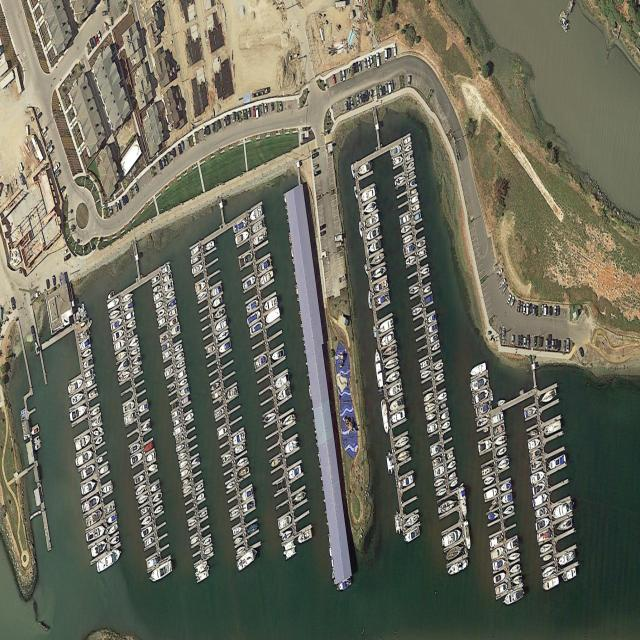large-vehicle: (375, 52, 380, 68)
ship: (96, 546, 122, 576), (150, 558, 173, 584), (237, 546, 259, 573), (447, 557, 469, 578), (502, 587, 524, 608), (552, 499, 573, 521), (374, 347, 384, 389), (85, 524, 106, 544), (443, 527, 462, 549), (75, 448, 94, 469), (82, 494, 101, 514), (69, 403, 88, 423), (380, 398, 390, 435), (446, 543, 465, 562), (439, 496, 457, 516), (85, 508, 103, 528), (543, 419, 561, 438), (195, 560, 209, 584), (283, 538, 297, 562), (470, 375, 488, 393), (548, 453, 566, 471), (558, 549, 576, 567), (91, 539, 108, 558), (459, 485, 468, 520), (543, 575, 560, 593), (404, 526, 420, 545), (274, 372, 290, 391), (336, 575, 352, 594), (80, 462, 96, 481), (75, 433, 91, 452), (68, 376, 84, 395), (556, 517, 573, 534), (252, 229, 268, 247), (394, 434, 410, 452), (374, 291, 390, 309), (373, 278, 389, 296), (473, 387, 489, 405), (532, 491, 548, 509), (259, 269, 274, 288), (463, 521, 472, 552), (238, 251, 254, 268), (382, 343, 398, 360), (469, 362, 486, 378), (233, 217, 248, 235), (249, 205, 264, 223), (235, 229, 250, 247), (379, 317, 394, 335), (387, 381, 402, 399), (404, 512, 419, 530), (278, 513, 293, 531), (265, 307, 280, 325), (276, 385, 291, 403), (81, 478, 96, 496), (369, 251, 385, 267), (530, 469, 546, 485), (242, 274, 257, 291), (389, 396, 404, 413), (263, 296, 278, 313), (357, 160, 372, 177), (361, 186, 376, 203), (537, 527, 552, 544), (381, 330, 395, 348), (394, 509, 403, 537), (254, 353, 268, 371), (284, 438, 298, 456), (385, 370, 400, 386), (372, 264, 387, 280), (475, 402, 490, 418), (540, 389, 555, 405), (489, 533, 504, 549), (562, 567, 577, 583), (536, 516, 551, 532), (257, 257, 271, 274), (242, 497, 256, 514), (240, 486, 254, 503), (247, 309, 261, 326), (391, 408, 405, 425), (288, 464, 302, 481), (363, 200, 377, 217), (366, 225, 380, 242), (71, 390, 85, 407), (386, 450, 395, 476), (478, 438, 493, 453), (249, 320, 263, 336), (384, 356, 398, 372), (271, 348, 285, 364), (293, 488, 307, 504), (298, 529, 312, 545), (365, 213, 379, 229), (491, 545, 505, 561), (542, 563, 556, 579), (215, 317, 228, 334), (252, 218, 265, 235), (232, 430, 245, 447), (130, 451, 144, 466), (532, 481, 546, 496), (484, 486, 498, 501), (492, 557, 506, 572), (401, 474, 414, 490), (264, 410, 277, 426), (124, 409, 137, 425), (118, 368, 131, 384), (213, 306, 226, 321), (204, 238, 217, 253), (246, 298, 259, 313), (397, 449, 410, 464), (282, 414, 295, 429), (368, 239, 381, 254), (116, 358, 129, 373), (112, 328, 125, 343), (107, 296, 120, 311), (494, 433, 507, 448), (430, 442, 443, 457), (528, 436, 541, 451), (506, 537, 519, 552), (536, 505, 549, 520), (111, 316, 123, 332), (146, 555, 159, 569), (491, 411, 504, 425), (497, 457, 510, 471), (529, 447, 542, 461), (524, 405, 537, 419), (540, 541, 553, 555), (219, 340, 231, 355), (217, 328, 229, 343), (210, 283, 222, 298), (195, 279, 207, 294), (141, 524, 153, 539), (78, 327, 90, 342), (79, 337, 91, 352), (123, 400, 135, 415), (501, 491, 513, 506), (212, 294, 223, 310), (495, 582, 508, 595), (493, 571, 506, 584), (192, 262, 204, 276), (247, 522, 259, 536), (238, 465, 250, 479), (135, 483, 147, 497), (114, 338, 126, 352), (122, 291, 134, 305), (390, 144, 402, 158), (394, 174, 406, 188), (403, 242, 415, 256), (531, 458, 543, 472), (508, 550, 520, 564), (227, 386, 238, 401), (282, 528, 293, 543), (109, 307, 120, 322), (234, 442, 246, 455), (400, 223, 412, 236), (476, 416, 489, 428), (500, 481, 512, 494), (509, 563, 521, 576), (197, 289, 208, 303), (141, 514, 152, 528), (152, 491, 163, 505), (91, 415, 102, 429), (116, 348, 127, 362), (130, 441, 141, 455), (434, 476, 445, 490), (400, 212, 411, 226), (494, 423, 505, 437), (405, 253, 416, 267), (434, 465, 445, 479), (409, 284, 420, 298), (503, 504, 514, 518), (236, 456, 248, 468), (481, 465, 493, 477), (436, 486, 447, 499), (214, 407, 225, 420), (217, 425, 228, 438), (102, 483, 113, 496), (144, 535, 155, 548), (81, 347, 92, 360), (128, 336, 139, 349), (427, 422, 438, 435), (425, 401, 436, 414), (412, 305, 423, 318), (484, 474, 495, 487), (512, 574, 523, 587), (147, 461, 157, 475), (560, 15, 569, 30), (190, 254, 201, 266), (138, 493, 149, 505), (134, 473, 145, 485), (173, 425, 184, 437), (496, 446, 507, 458), (423, 391, 434, 403), (527, 428, 538, 440), (488, 510, 499, 522), (206, 343, 216, 356), (191, 244, 201, 257), (222, 452, 232, 465), (271, 456, 281, 469), (105, 502, 115, 515), (107, 513, 117, 526), (153, 503, 163, 516), (151, 481, 161, 494), (146, 451, 156, 464), (83, 357, 93, 370), (85, 376, 95, 389), (171, 324, 181, 337), (141, 421, 151, 434), (139, 401, 149, 414), (132, 354, 142, 367), (130, 345, 140, 358), (123, 300, 133, 313), (420, 358, 430, 371), (212, 389, 222, 401), (190, 534, 200, 546), (202, 536, 212, 548), (233, 525, 243, 537), (230, 507, 240, 519), (367, 290, 373, 310), (99, 464, 109, 476), (108, 524, 118, 536), (110, 535, 120, 547), (88, 387, 98, 399), (153, 291, 163, 303), (164, 281, 174, 293), (164, 367, 174, 379), (184, 411, 194, 423), (393, 155, 403, 167), (403, 233, 413, 245), (432, 456, 442, 468), (437, 390, 447, 402), (421, 368, 431, 380), (428, 322, 438, 334), (127, 318, 136, 331), (358, 220, 364, 239), (236, 545, 246, 556), (175, 442, 185, 453), (84, 368, 94, 379), (90, 407, 100, 418), (159, 333, 169, 344), (446, 460, 456, 471), (426, 411, 436, 422), (434, 361, 444, 372), (204, 545, 213, 557), (141, 504, 150, 516), (144, 441, 153, 453), (169, 306, 178, 318), (169, 316, 178, 328), (176, 359, 185, 371), (179, 377, 188, 389), (163, 272, 172, 284), (126, 310, 135, 322), (441, 420, 450, 432), (417, 238, 426, 250), (431, 341, 440, 353), (427, 313, 436, 325), (424, 294, 433, 306), (350, 163, 356, 180), (191, 456, 200, 467), (183, 484, 192, 495), (195, 482, 204, 493), (199, 509, 208, 520), (226, 480, 235, 491), (179, 459, 188, 470), (94, 436, 103, 447), (175, 434, 184, 445), (152, 283, 161, 294), (175, 351, 184, 362), (180, 386, 189, 397), (171, 409, 180, 420), (166, 290, 175, 301), (161, 264, 170, 275), (151, 274, 160, 285), (435, 372, 444, 383), (421, 266, 430, 277), (34, 340, 40, 356), (168, 298, 176, 310), (180, 468, 189, 478), (188, 518, 197, 528), (234, 536, 243, 546), (178, 451, 187, 461), (31, 426, 40, 436), (174, 343, 183, 353), (497, 398, 506, 408), (211, 381, 219, 392), (163, 350, 171, 361), (155, 299, 163, 310), (157, 307, 165, 318), (158, 316, 166, 327), (162, 341, 170, 352), (178, 369, 186, 380), (174, 417, 182, 428), (133, 365, 141, 376), (450, 478, 458, 489), (411, 194, 419, 205), (404, 143, 412, 154), (441, 410, 449, 421), (423, 285, 431, 296), (418, 248, 426, 259), (543, 553, 552, 562), (448, 472, 456, 482), (412, 203, 420, 213), (407, 161, 415, 171), (364, 263, 370, 276), (34, 441, 41, 452), (409, 179, 417, 188), (408, 170, 415, 180), (33, 435, 40, 445), (127, 330, 134, 340), (168, 383, 175, 393), (97, 455, 104, 465), (372, 325, 377, 339), (446, 450, 453, 460), (406, 152, 413, 162), (489, 389, 494, 402), (354, 186, 358, 202), (197, 493, 204, 502), (182, 396, 189, 405), (96, 425, 103, 434), (414, 212, 421, 221), (404, 136, 411, 145), (108, 291, 114, 300), (411, 187, 417, 196), (82, 309, 87, 319), (183, 478, 189, 486), (77, 306, 81, 318), (75, 311, 79, 322), (519, 389, 525, 396), (483, 426, 489, 433), (88, 318, 92, 328), (93, 430, 99, 436), (82, 303, 84, 313)
small-vehicle: (499, 276, 506, 290), (30, 325, 36, 341), (52, 162, 60, 173), (496, 267, 503, 279), (509, 295, 515, 309), (338, 274, 346, 284), (133, 182, 139, 195), (46, 146, 53, 157), (54, 169, 61, 180), (59, 184, 66, 195), (579, 347, 585, 359), (41, 126, 47, 137), (507, 292, 512, 305), (347, 97, 352, 110), (366, 56, 371, 69), (64, 254, 71, 263), (502, 284, 508, 294), (164, 155, 169, 167), (121, 196, 126, 208), (97, 30, 102, 42), (95, 33, 100, 45), (89, 38, 94, 50), (36, 111, 42, 121), (45, 140, 51, 150), (52, 275, 57, 287), (312, 152, 319, 160), (92, 35, 97, 46), (313, 163, 319, 172), (517, 300, 521, 313), (566, 339, 570, 352), (350, 97, 354, 110), (178, 143, 182, 156), (172, 146, 176, 159), (255, 106, 259, 119), (342, 69, 346, 82), (11, 297, 15, 310), (384, 49, 388, 61), (387, 47, 391, 59), (385, 83, 389, 95), (382, 84, 386, 96), (379, 85, 383, 97), (365, 89, 369, 101), (356, 94, 360, 106), (344, 100, 348, 112), (319, 223, 325, 231), (320, 230, 326, 238), (180, 140, 184, 152), (161, 157, 165, 169), (159, 159, 163, 171), (117, 200, 121, 212), (355, 61, 359, 73), (520, 334, 524, 346), (332, 73, 336, 85), (63, 248, 69, 256), (390, 80, 394, 91), (369, 88, 373, 99), (226, 115, 230, 126), (223, 116, 227, 127), (217, 119, 221, 130), (202, 126, 206, 137), (124, 193, 128, 204), (114, 202, 118, 213), (46, 279, 50, 290), (362, 93, 366, 103), (206, 125, 210, 135), (186, 137, 190, 147), (109, 206, 113, 216), (557, 340, 561, 350), (270, 102, 274, 112), (526, 303, 529, 316), (388, 81, 391, 94), (252, 106, 255, 119), (527, 335, 530, 348), (543, 304, 546, 316), (553, 306, 556, 318), (359, 92, 362, 104), (563, 340, 566, 352), (364, 58, 367, 70), (314, 170, 320, 176), (102, 10, 108, 16), (520, 302, 523, 313), (523, 303, 526, 314), (532, 305, 535, 316), (511, 334, 514, 345), (535, 306, 538, 317), (244, 109, 247, 120), (212, 122, 215, 133), (247, 108, 250, 119), (534, 336, 537, 347), (545, 339, 548, 350), (359, 60, 362, 71), (264, 103, 267, 114), (370, 55, 373, 66), (340, 71, 343, 82), (279, 101, 282, 112), (523, 337, 526, 347), (232, 113, 235, 123), (549, 306, 552, 316), (554, 339, 557, 349), (236, 113, 239, 122), (541, 304, 543, 316), (503, 328, 505, 340), (530, 303, 532, 315), (518, 334, 520, 346), (552, 339, 554, 350), (408, 76, 410, 87), (557, 306, 559, 317), (541, 336, 543, 347)
